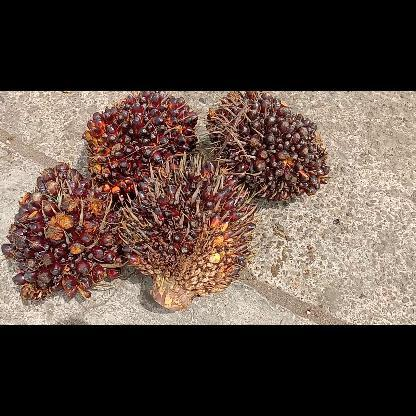Kurang masak: (114, 152, 256, 314), (0, 162, 128, 304), (204, 90, 336, 206), (76, 90, 202, 196)
